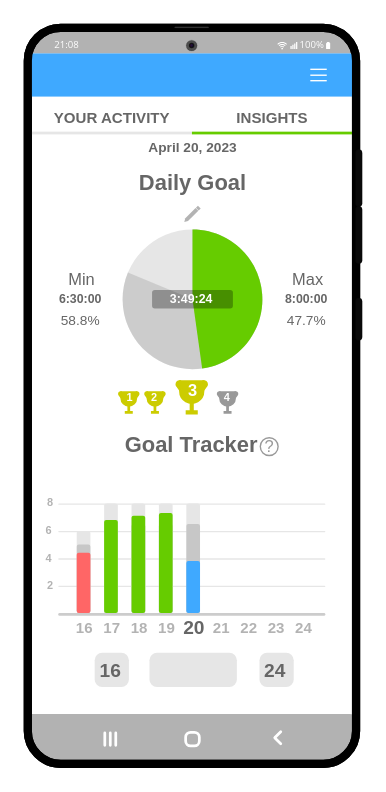
Some shapes in this 386 by 792 pixel diagram are drawn without their labels. Each missing label, with the centre of its shape:
"APRIL" goes at (x=192, y=669).
"Chrono" goes at (x=191, y=74).
